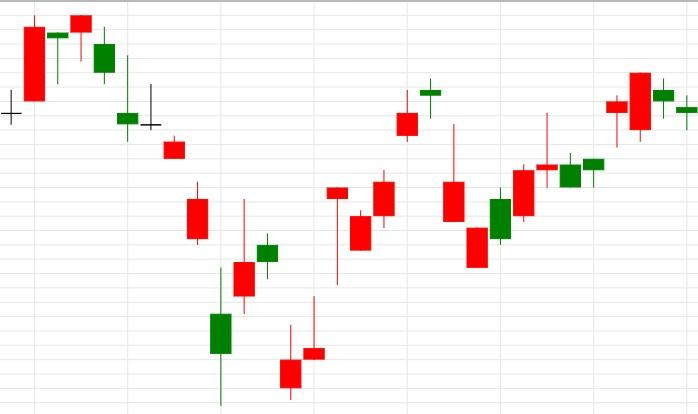hanging_man_fall: (0, 13, 93, 125)
